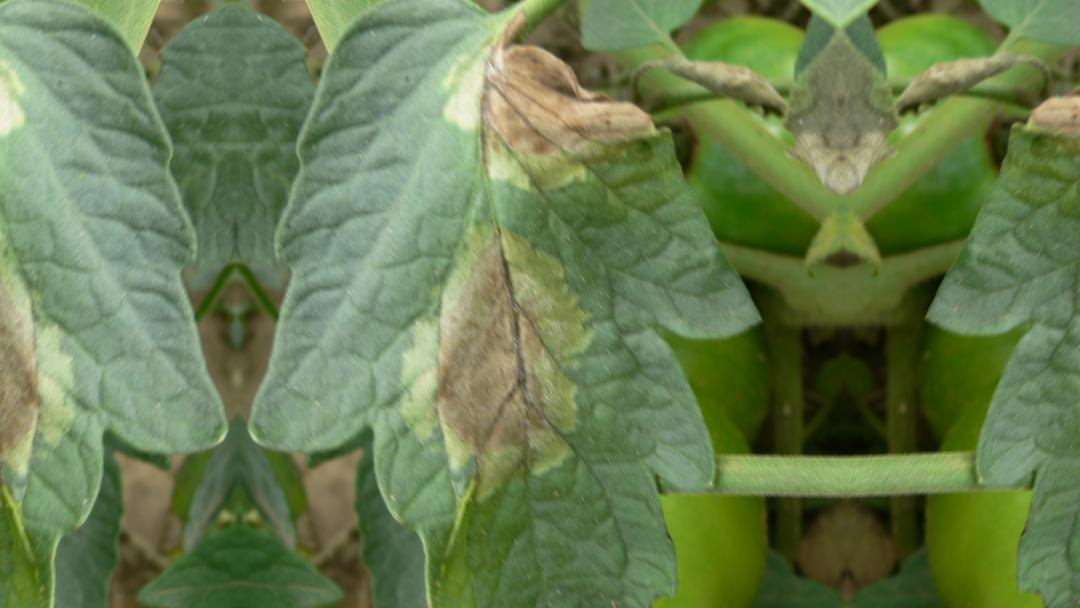Tomato leaf late blight: (246, 0, 787, 608)
